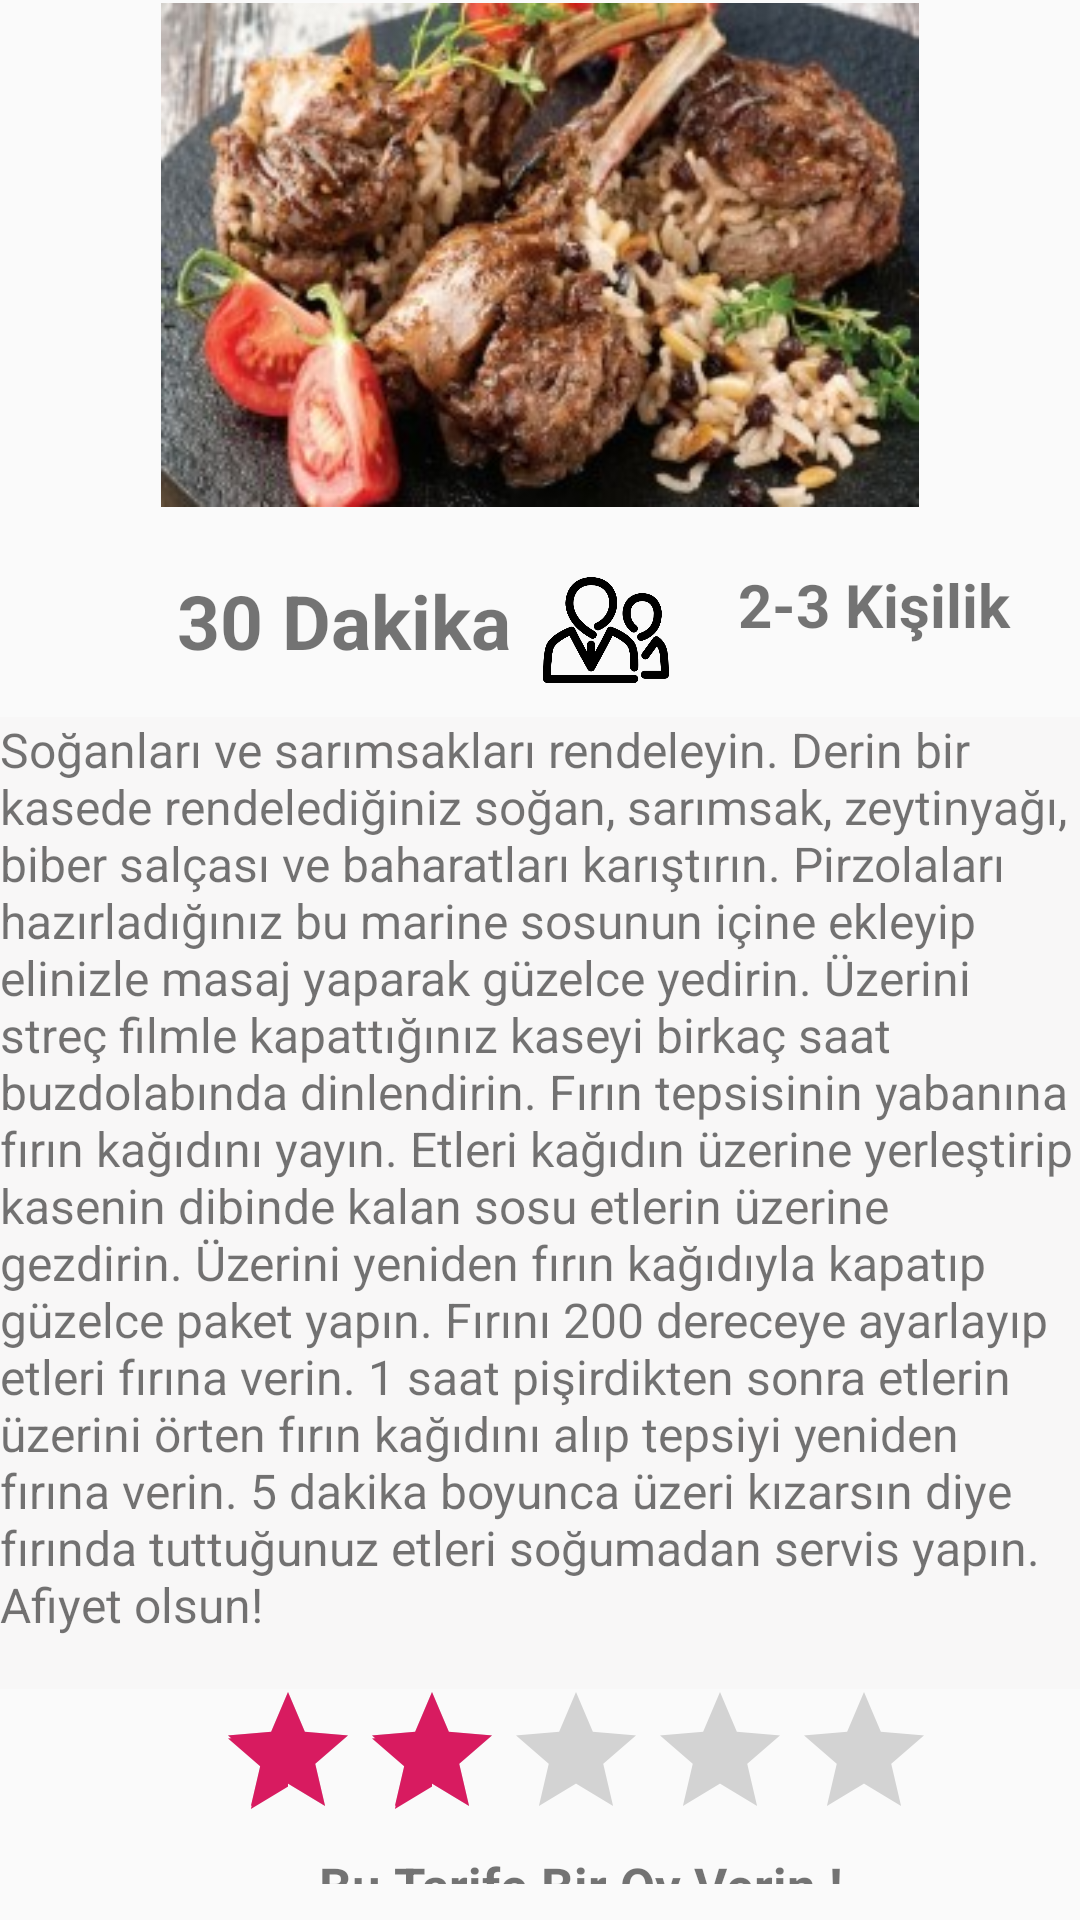

Locate icon controls on the screen. Image size 1080 × 1920, boxes as (x1, y1, x2, y2).
personicon: (543, 577, 669, 683)
